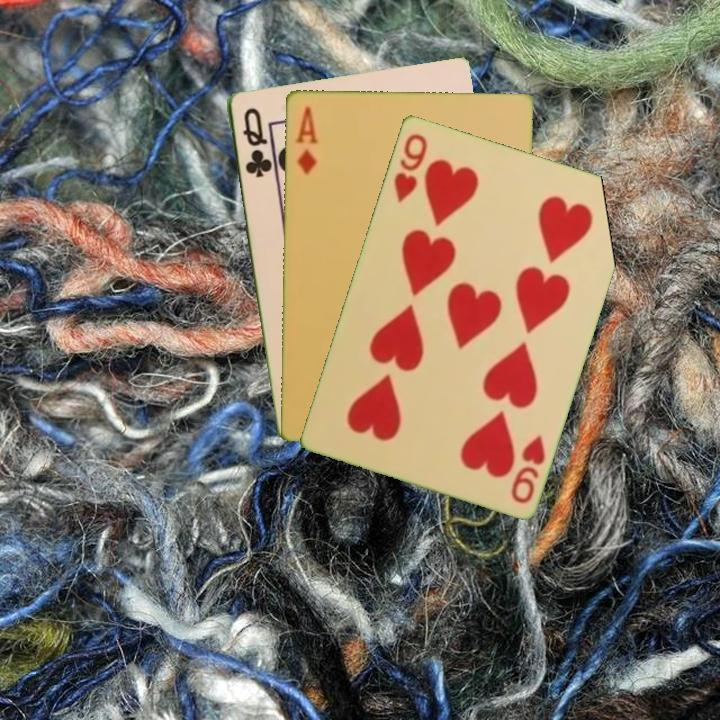9h: (507, 431, 548, 506), (390, 129, 430, 205)
Ad: (291, 102, 320, 177)
Qc: (238, 103, 274, 181)
